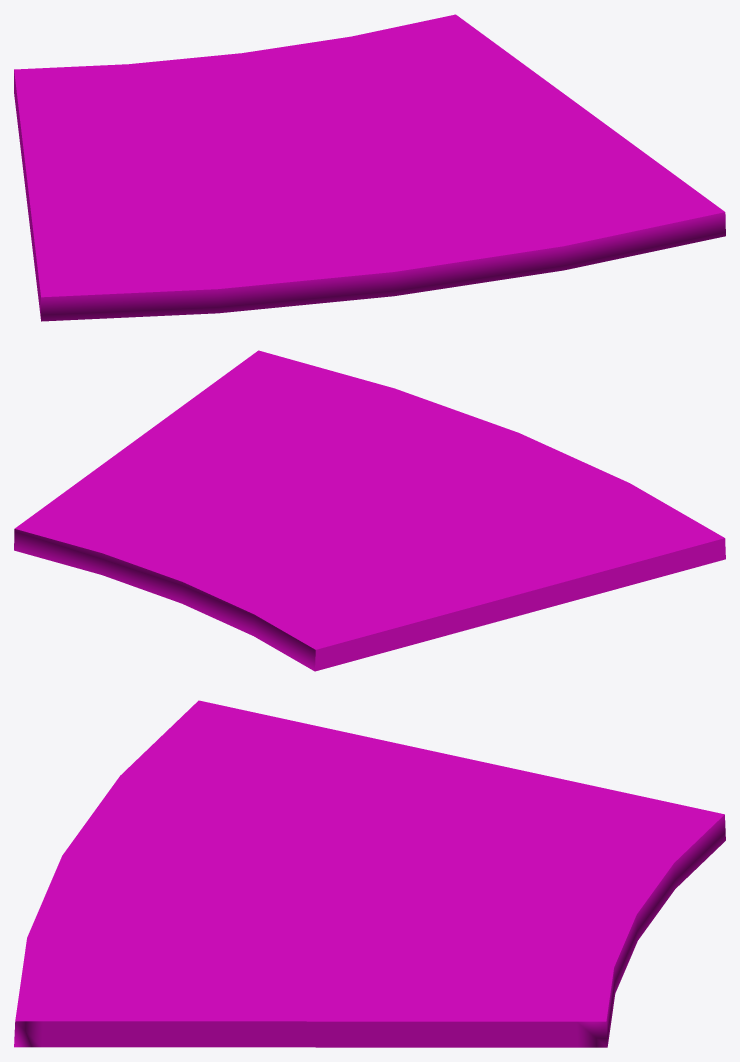
The model's file is Plastic_Pipe_E_15Deg.fbx.
3 renders of one model, top to bottom at view 1: azimuth 30°, elevation 25°; view 2: azimuth 150°, elevation 25°; view 3: azimuth 270°, elevation 25°, orthographic. The views are drawn at different scales.
Visible parts, largest first — view 1: Plastic_Pipe_E_15Deg; view 2: Plastic_Pipe_E_15Deg; view 3: Plastic_Pipe_E_15Deg.
Part boxes in pixels (box(x1,y1,x2,y2)): Plastic_Pipe_E_15Deg: box(14, 14, 725, 321); Plastic_Pipe_E_15Deg: box(14, 350, 725, 671); Plastic_Pipe_E_15Deg: box(14, 700, 725, 1047).
Bounding box in the file's own units: 5.96 × 0.2246 × 5.58.
